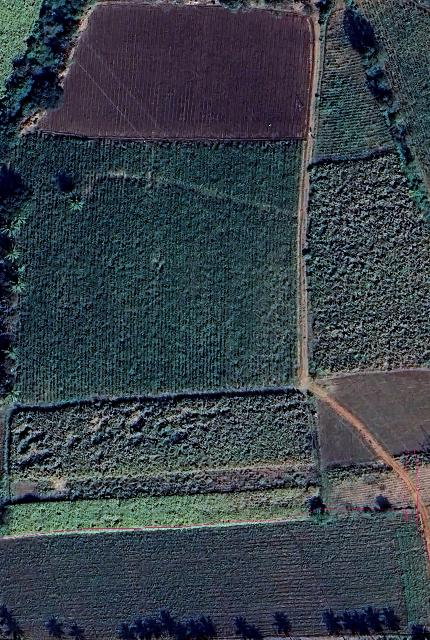EmptyFarms: (34, 2, 310, 137), (319, 368, 430, 456), (313, 400, 374, 463)
Farms: (13, 137, 300, 399), (1, 511, 429, 640), (7, 395, 322, 535), (314, 147, 429, 378), (315, 3, 395, 159)
